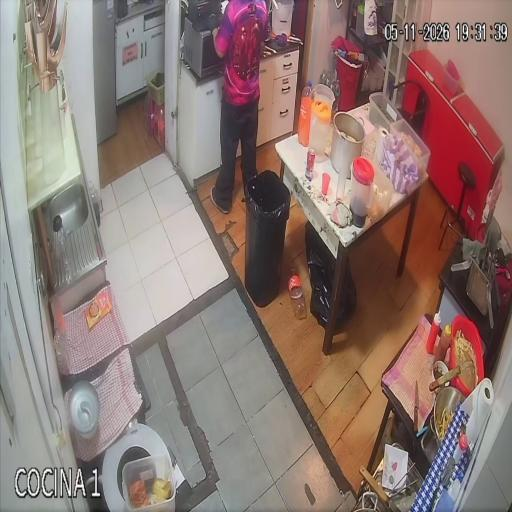Basurero: (244, 170, 290, 307)
Cuchillo1: (414, 381, 419, 433)
Envase Ketchup: (426, 313, 441, 354)
Envase Llajua: (435, 325, 451, 362)
Jarra1: (350, 157, 374, 228)
Jarra2: (309, 100, 331, 162)
Jarra3: (314, 83, 335, 112)
Microondas: (184, 17, 222, 77)
Persona1: (211, 0, 268, 212)
Tapa de olla: (68, 381, 100, 439)
Taper: (122, 454, 175, 512)
Taper2: (369, 93, 402, 130)
Taper3: (389, 119, 430, 177)
Taper4: (368, 164, 394, 221)
Vaso1: (322, 173, 330, 195)
botella: (298, 82, 313, 146)
olla1: (330, 112, 365, 178)
